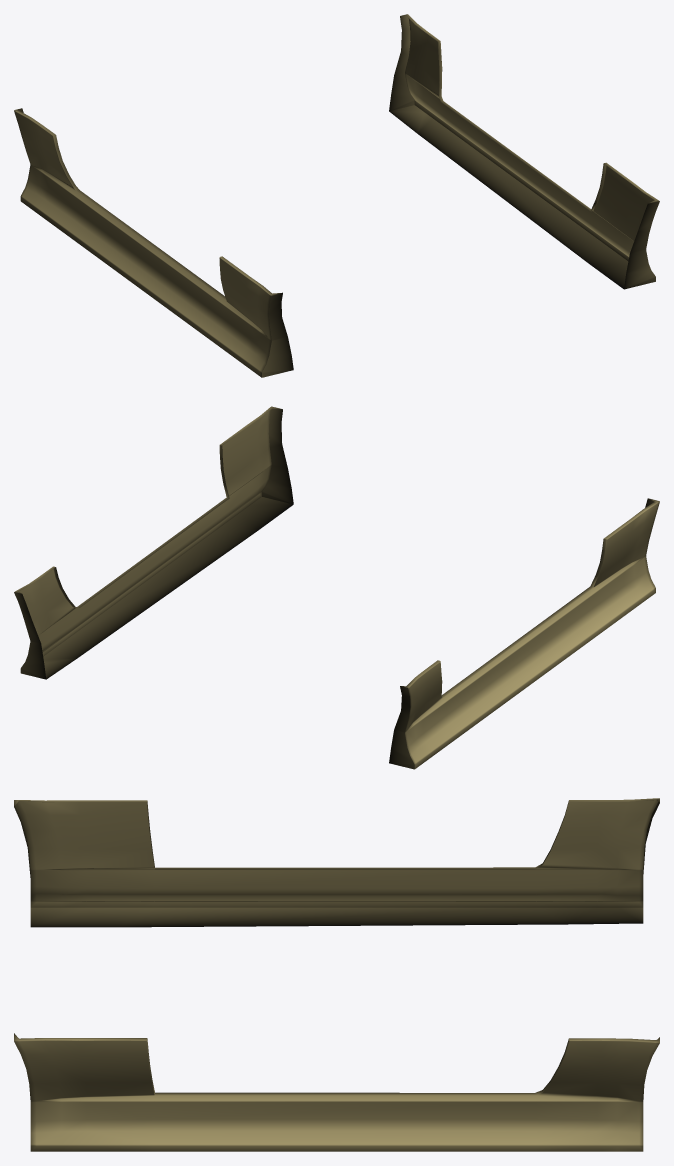
File: MX5_SideSkirt03_Duco.fbx
3 renders of one model, top to bottom at view 1: azimuth 30°, elevation 25°; view 2: azimuth 150°, elevation 25°; view 3: azimuth 270°, elevation 25°, orthographic. The views are drawn at different scales.
Parts seen in each view (by area): view 1: MX5_SideSkirt03_Duco; view 2: MX5_SideSkirt03_Duco; view 3: MX5_SideSkirt03_Duco.
Part boxes in pixels (box(x1,y1,x2,y2)): MX5_SideSkirt03_Duco: box(14, 14, 659, 377); MX5_SideSkirt03_Duco: box(14, 406, 659, 769); MX5_SideSkirt03_Duco: box(14, 798, 659, 1151).
Size of the model in its own units: 163 by 34.13 by 182.
